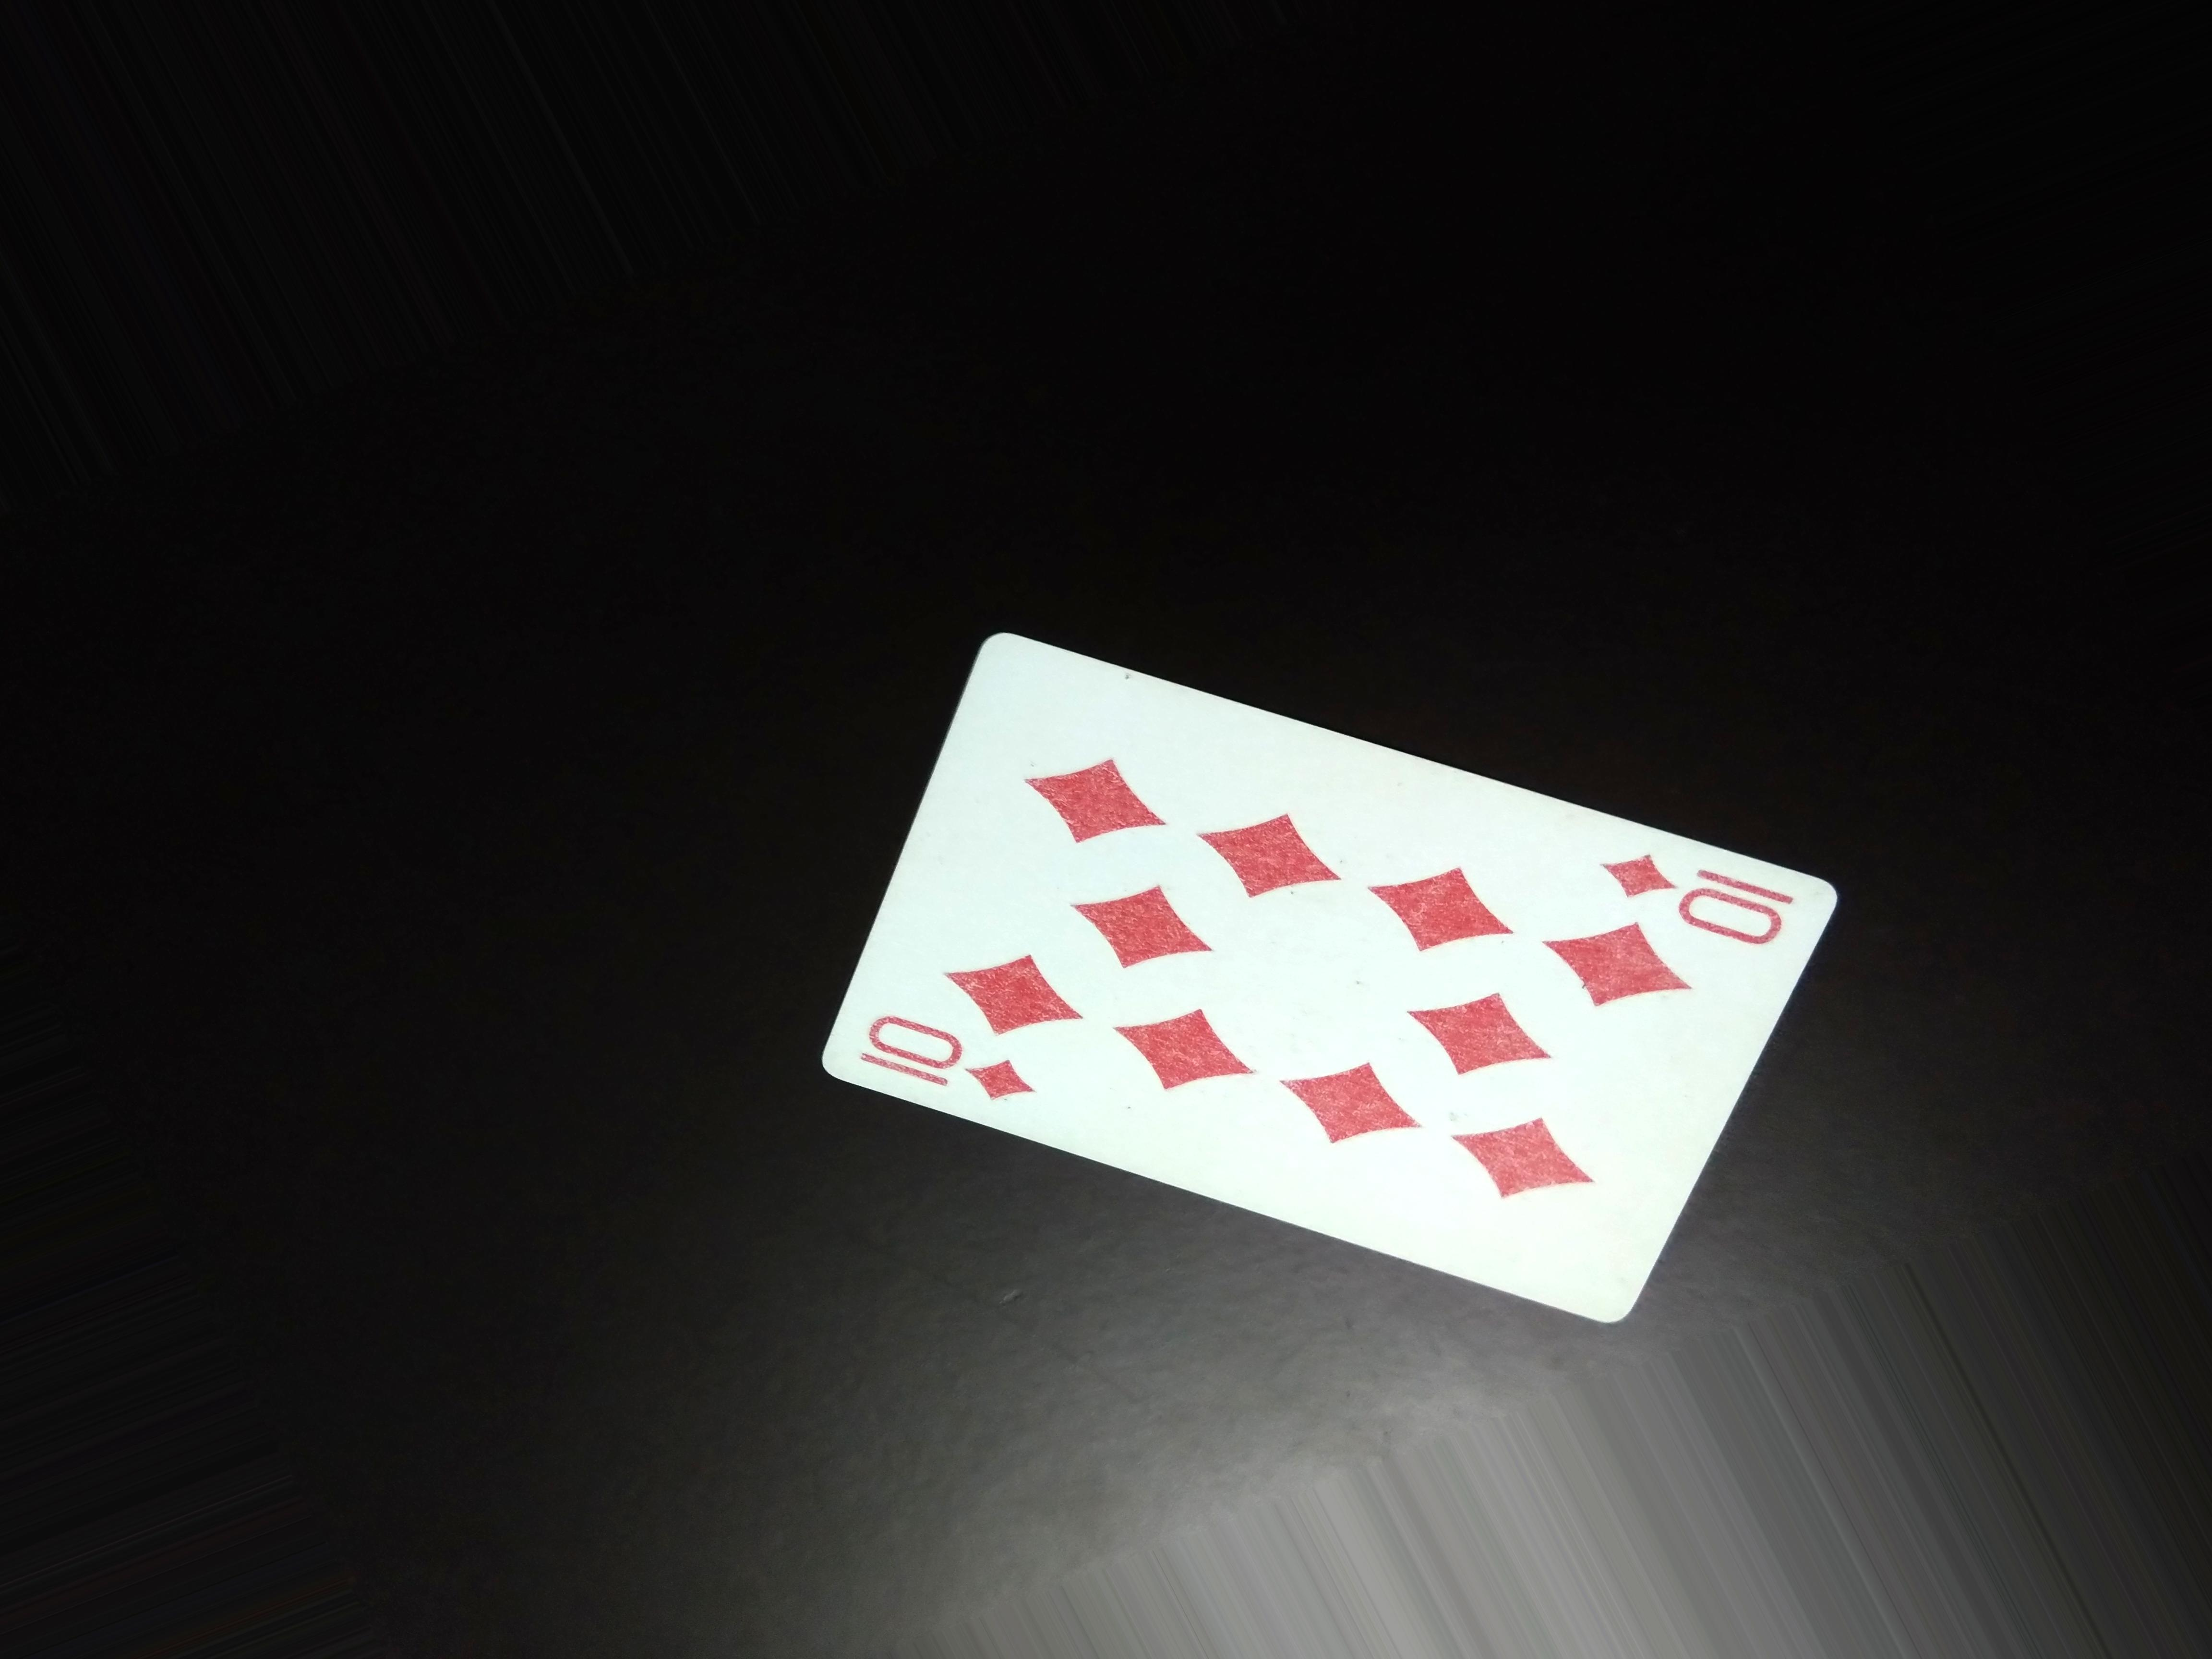10D: (855, 1006, 1029, 1112)
